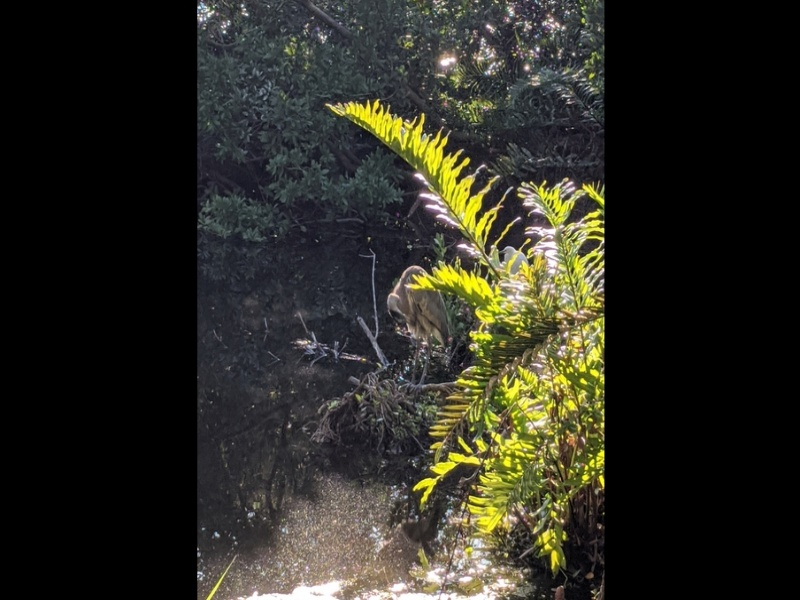heron: (379, 260, 457, 401)
